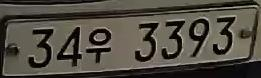3: (25, 25, 56, 69), (209, 13, 237, 57), (159, 19, 188, 60), (133, 21, 160, 62)
4: (55, 25, 85, 71)
9: (186, 16, 211, 58)
우: (84, 24, 114, 68)
